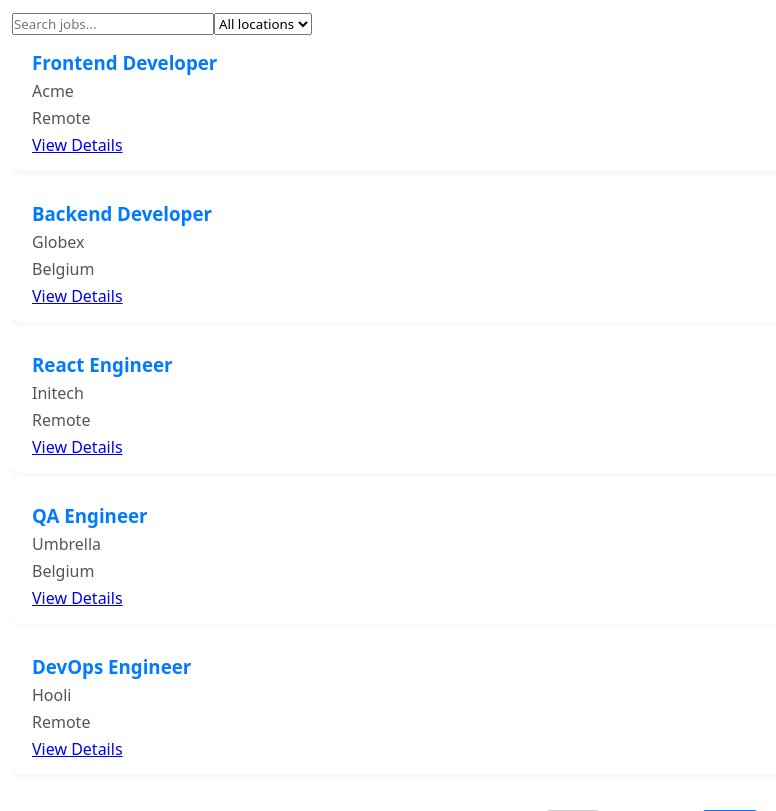
JobList › shows a message when no jobs match
Expected: the heading "Frontend Developer" is shown, top-left (32, 50), bottom-right (217, 75)
In the field with placeholder "Search jobs...": (113, 24) top-left (12, 13), bottom-right (214, 35), type "zzzzzz"
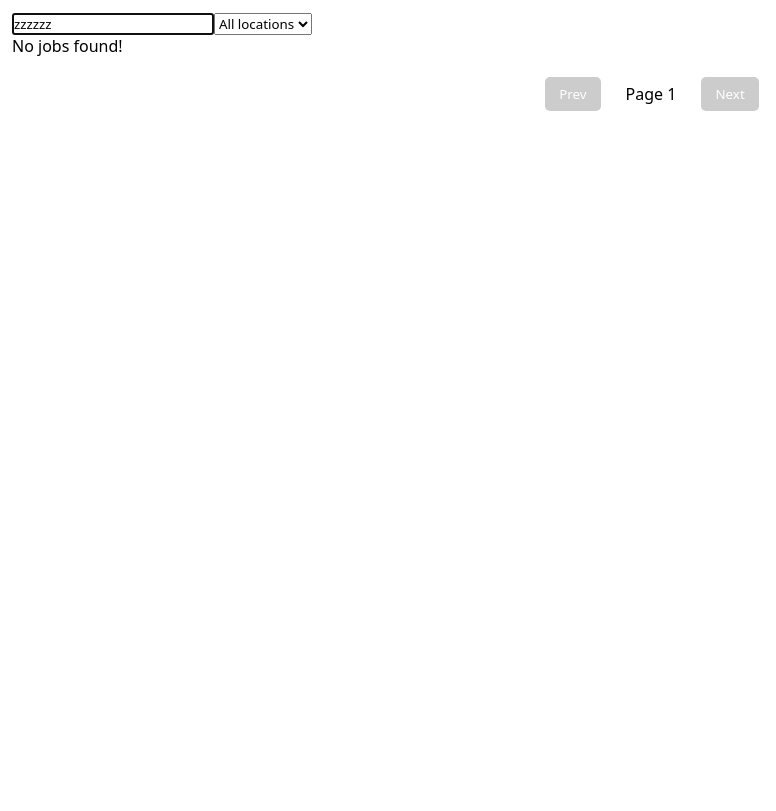
Result: the text "No jobs found!" is shown at top-left (12, 35), bottom-right (123, 57)
